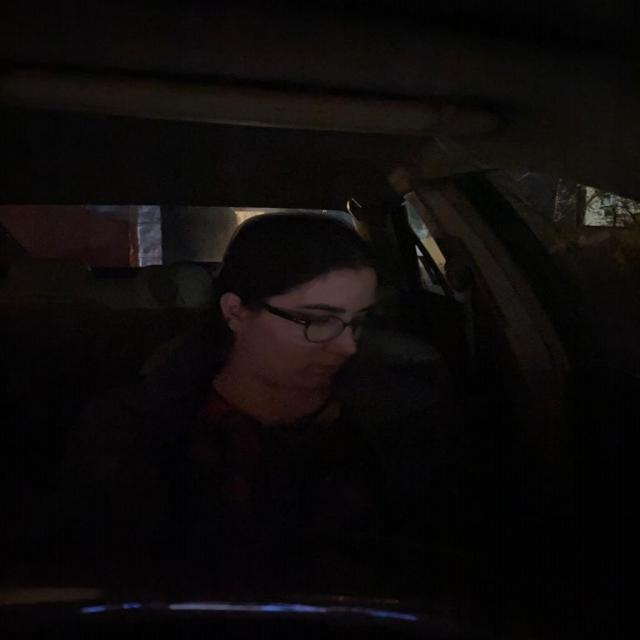drowsy: (204, 203, 386, 405)
